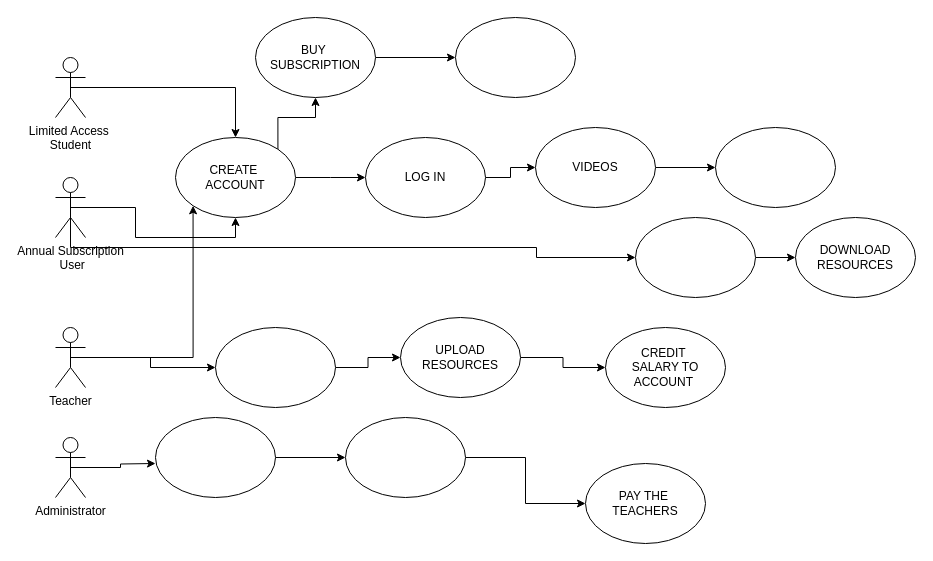
Some shapes in this 933 by 561 pixel diagram are drawn without their labels. The shapes that lost their labels are listed below. From the top down, each one's box as (x1, y1, x2, y2) in pixels, then its label:
(454, 16, 576, 98): CANCEL SUBSCRIPTION
(714, 126, 836, 208): NOTES
(634, 216, 756, 298): AUDIO CLIPS
(214, 326, 336, 408): MANAGE STUDENTS
(154, 416, 276, 498): ADD STUDENTS & TEACHERS
(344, 416, 466, 498): MANAGE COURSE
